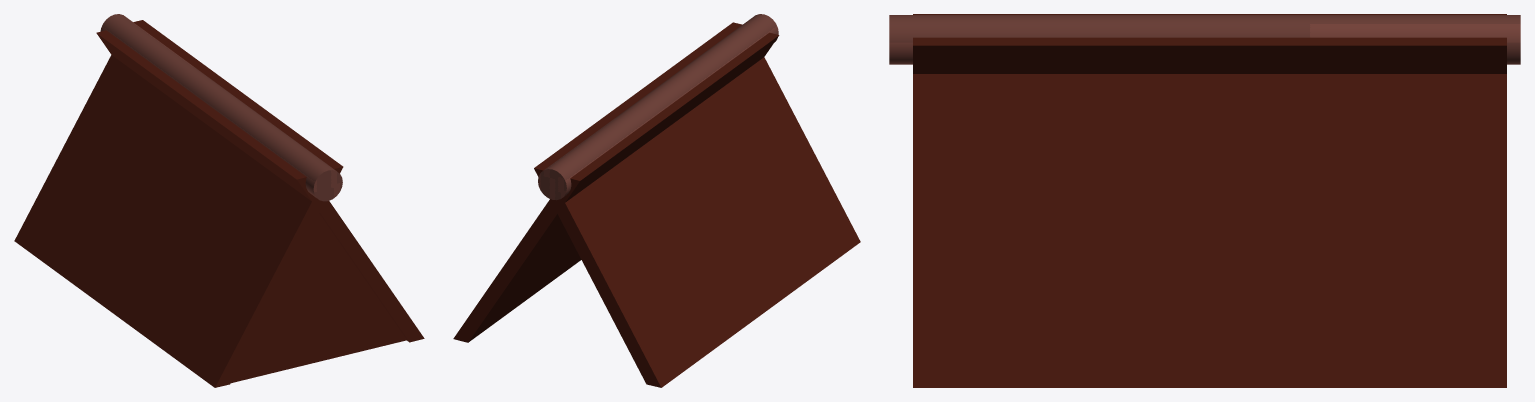
File: Tent.fbx
3 renders of one model, left to right at view 1: azimuth 30°, elevation 25°; view 2: azimuth 150°, elevation 25°; view 3: azimuth 270°, elevation 25°, orthographic. The views are drawn at different scales.
Parts seen in each view (by area): view 1: TentR, TentBack, TentL, TentLog; view 2: TentR, TentL, TentLog; view 3: TentL, TentR, TentLog.
Part boxes in pixels (box(x1,y1,x2,y2)): TentR: box(14, 20, 343, 387); TentBack: box(231, 213, 406, 383); TentL: box(96, 30, 424, 342); TentLog: box(100, 14, 342, 201); TentR: box(534, 22, 860, 387); TentL: box(453, 32, 779, 342); TentLog: box(538, 14, 778, 200); TentL: box(913, 14, 1506, 387); TentR: box(913, 37, 1506, 73); TentLog: box(889, 15, 1520, 64).
Size of the model in its own units: 3069 by 2793 by 5405.
Materials: 2 (1 with a texture image).
